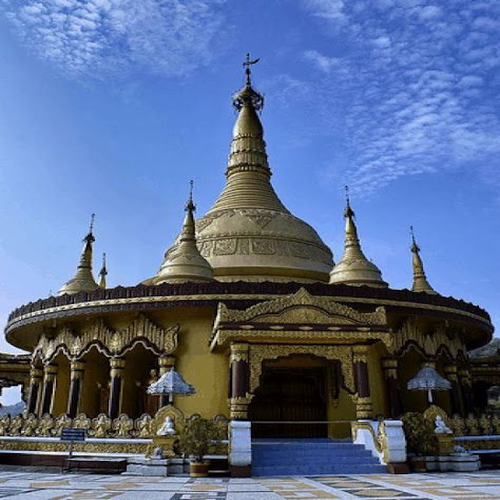Temple: (22, 61, 477, 451)
